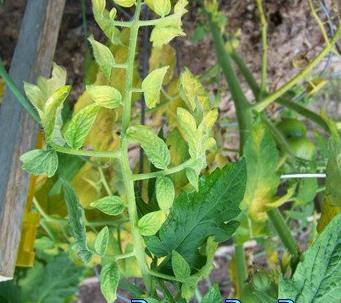Tomato leaf yellow virus: (231, 94, 282, 246), (129, 120, 181, 169), (66, 103, 107, 156), (151, 171, 181, 231), (84, 79, 124, 114)
